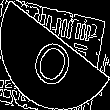O_NE: (28, 22, 82, 88)
